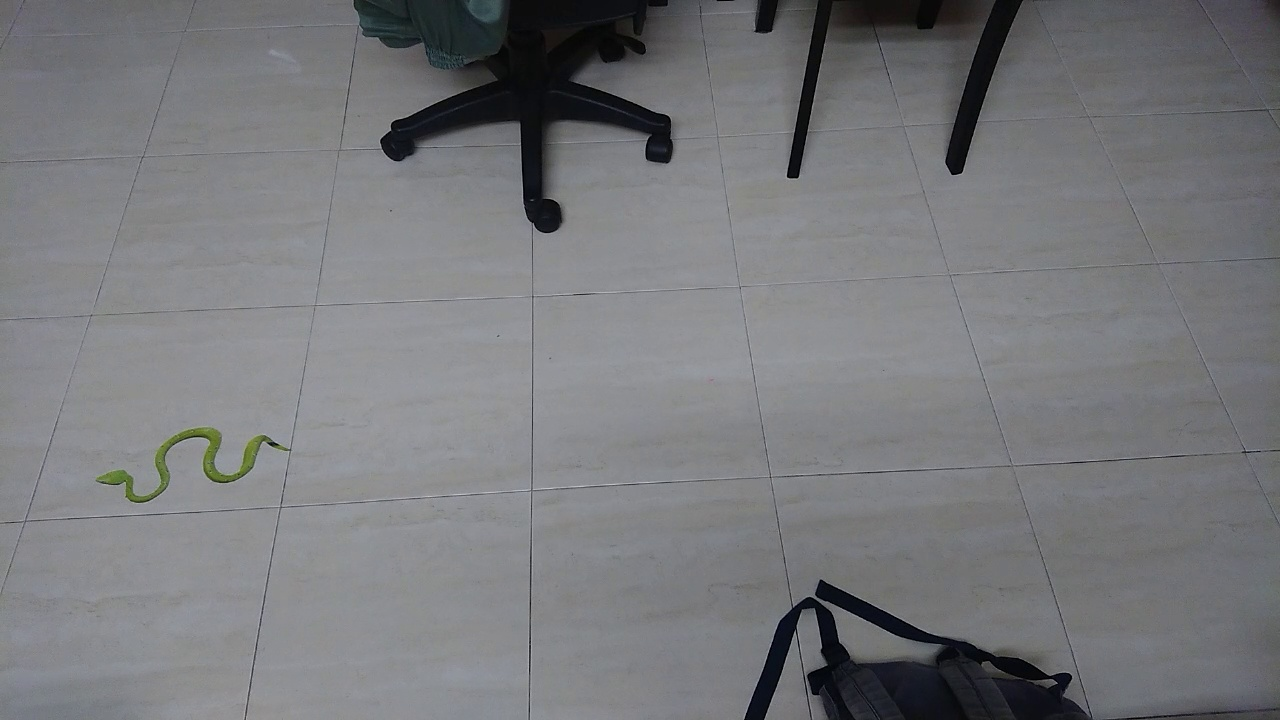snake: (81, 406, 311, 520)
